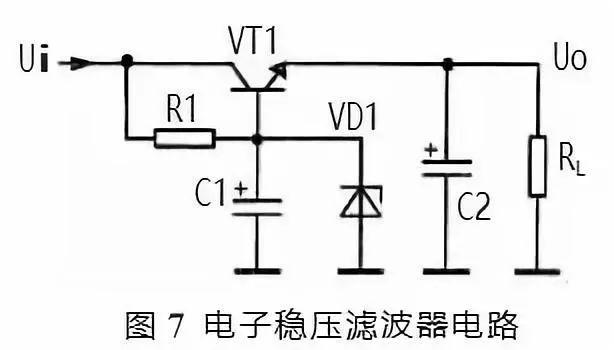cap1: (418, 136, 477, 183), (230, 182, 286, 223)
diode: (338, 179, 386, 229)
res1: (149, 124, 221, 153), (525, 130, 551, 205)
triode: (218, 55, 296, 101)
